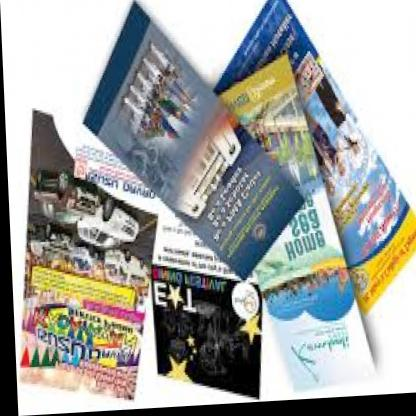Paper: (7, 0, 416, 400)
